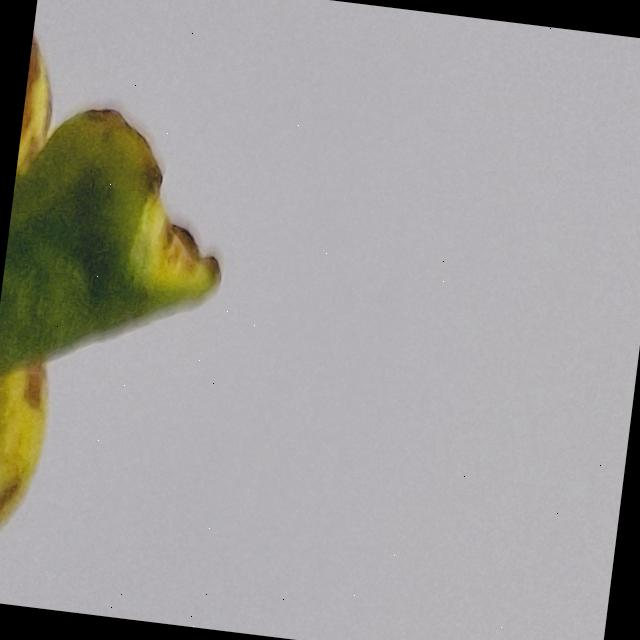mangosteen: (0, 0, 235, 622)
